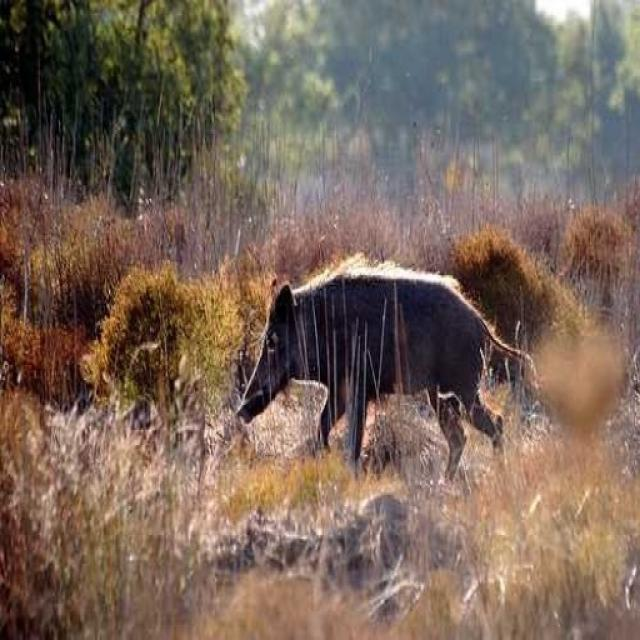pig: (205, 239, 535, 462)
